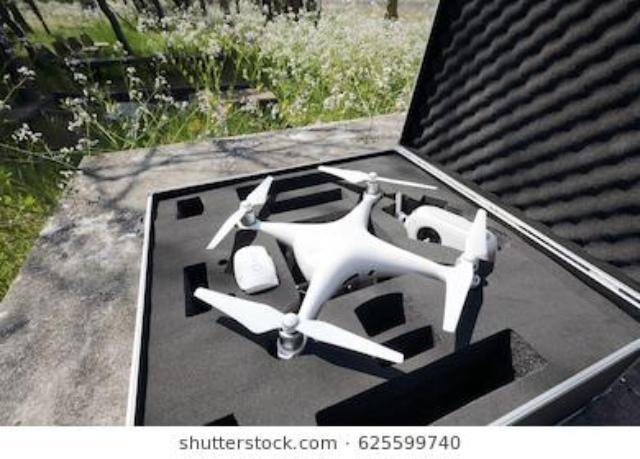drone: (140, 138, 542, 408)
